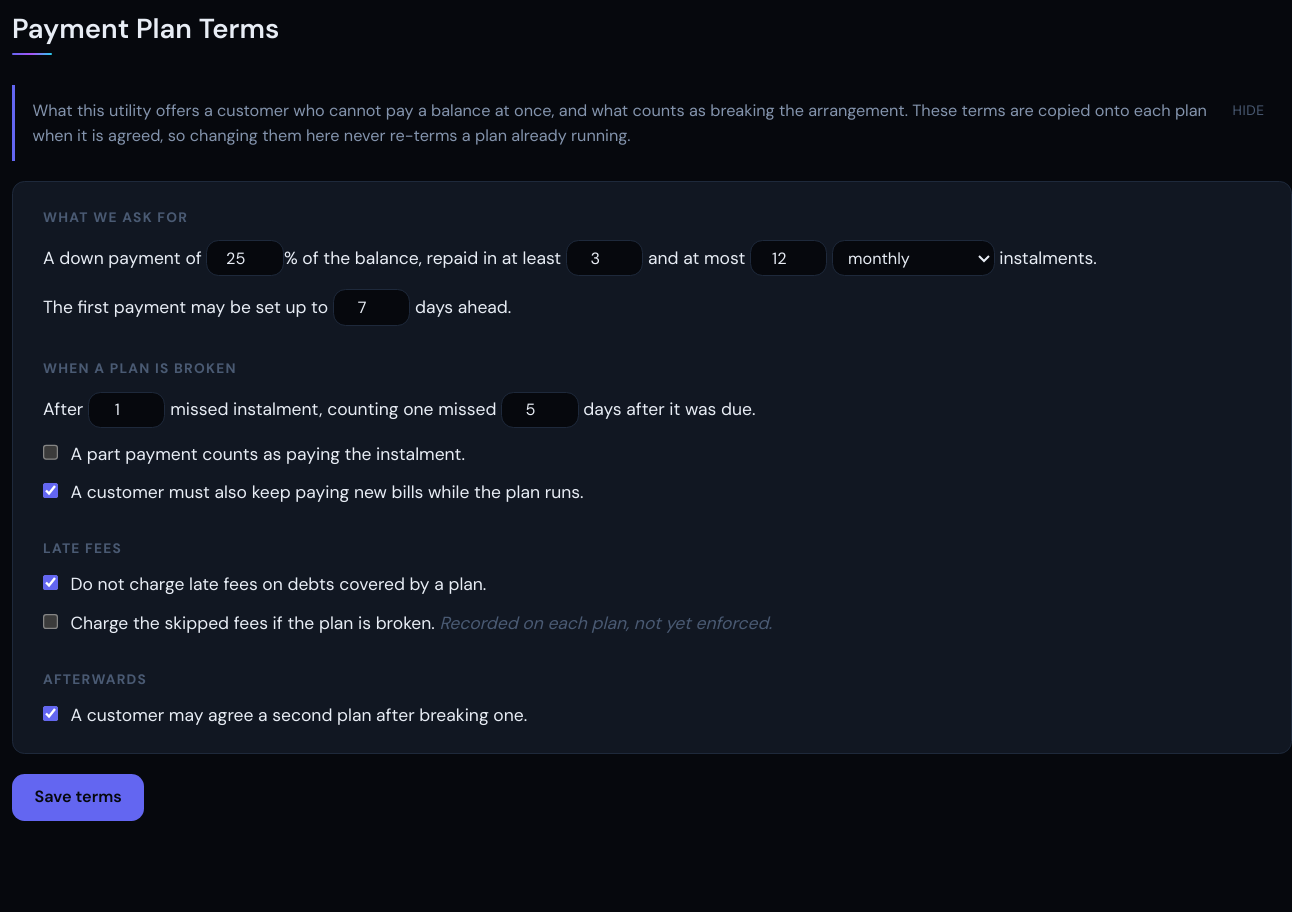
plan terms screen › offers no instalment range that excludes every plan
Expected: the number field named "at least" is shown, [566,240,643,276]
Replace the text in the number field named "at most" with "2" at (789, 258), box [750,240,827,276]
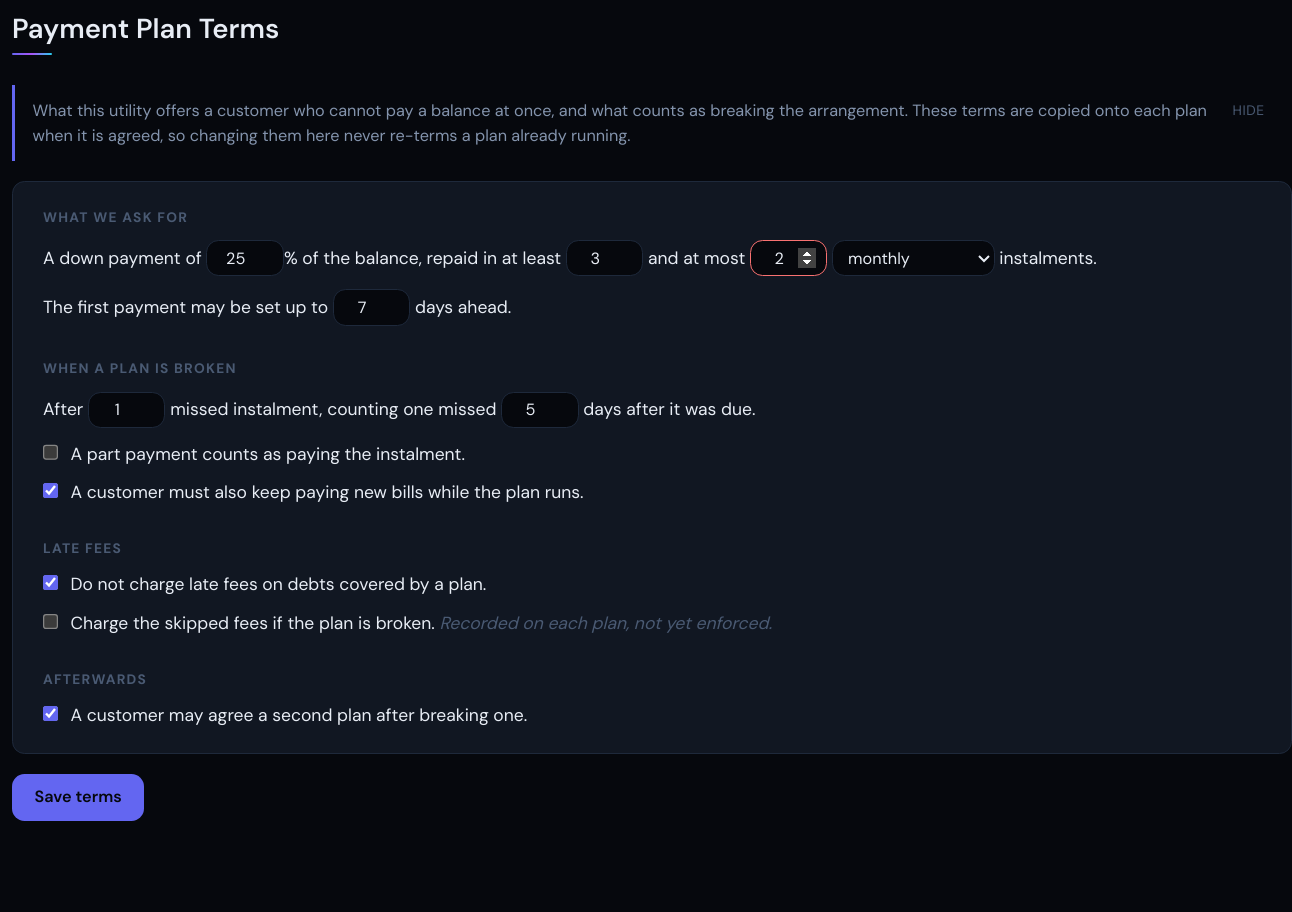
Click the button "Save terms" at (78, 798), box [12,774,144,821]
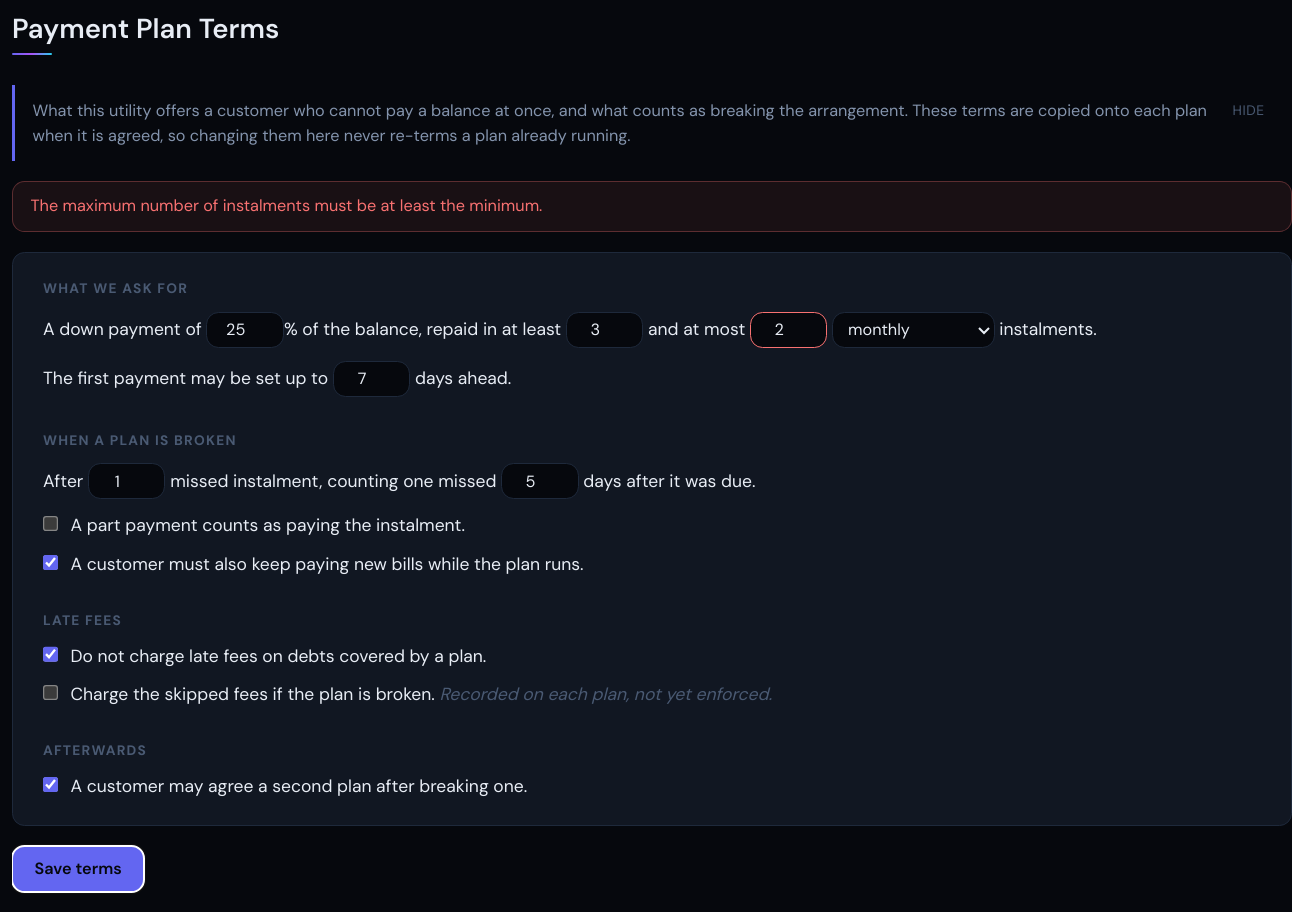
Now the text "The maximum number of instalments must be at least the minimum." is shown, box [12,181,1291,232]
